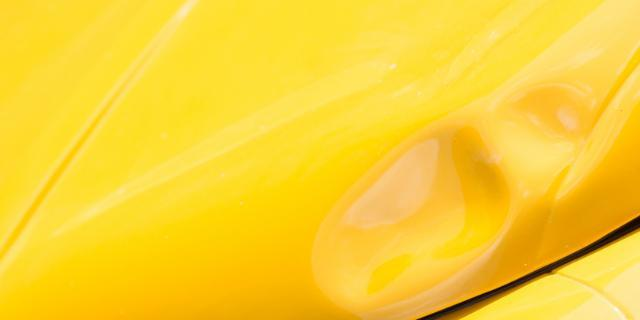Fender: (170, 40, 640, 268)
